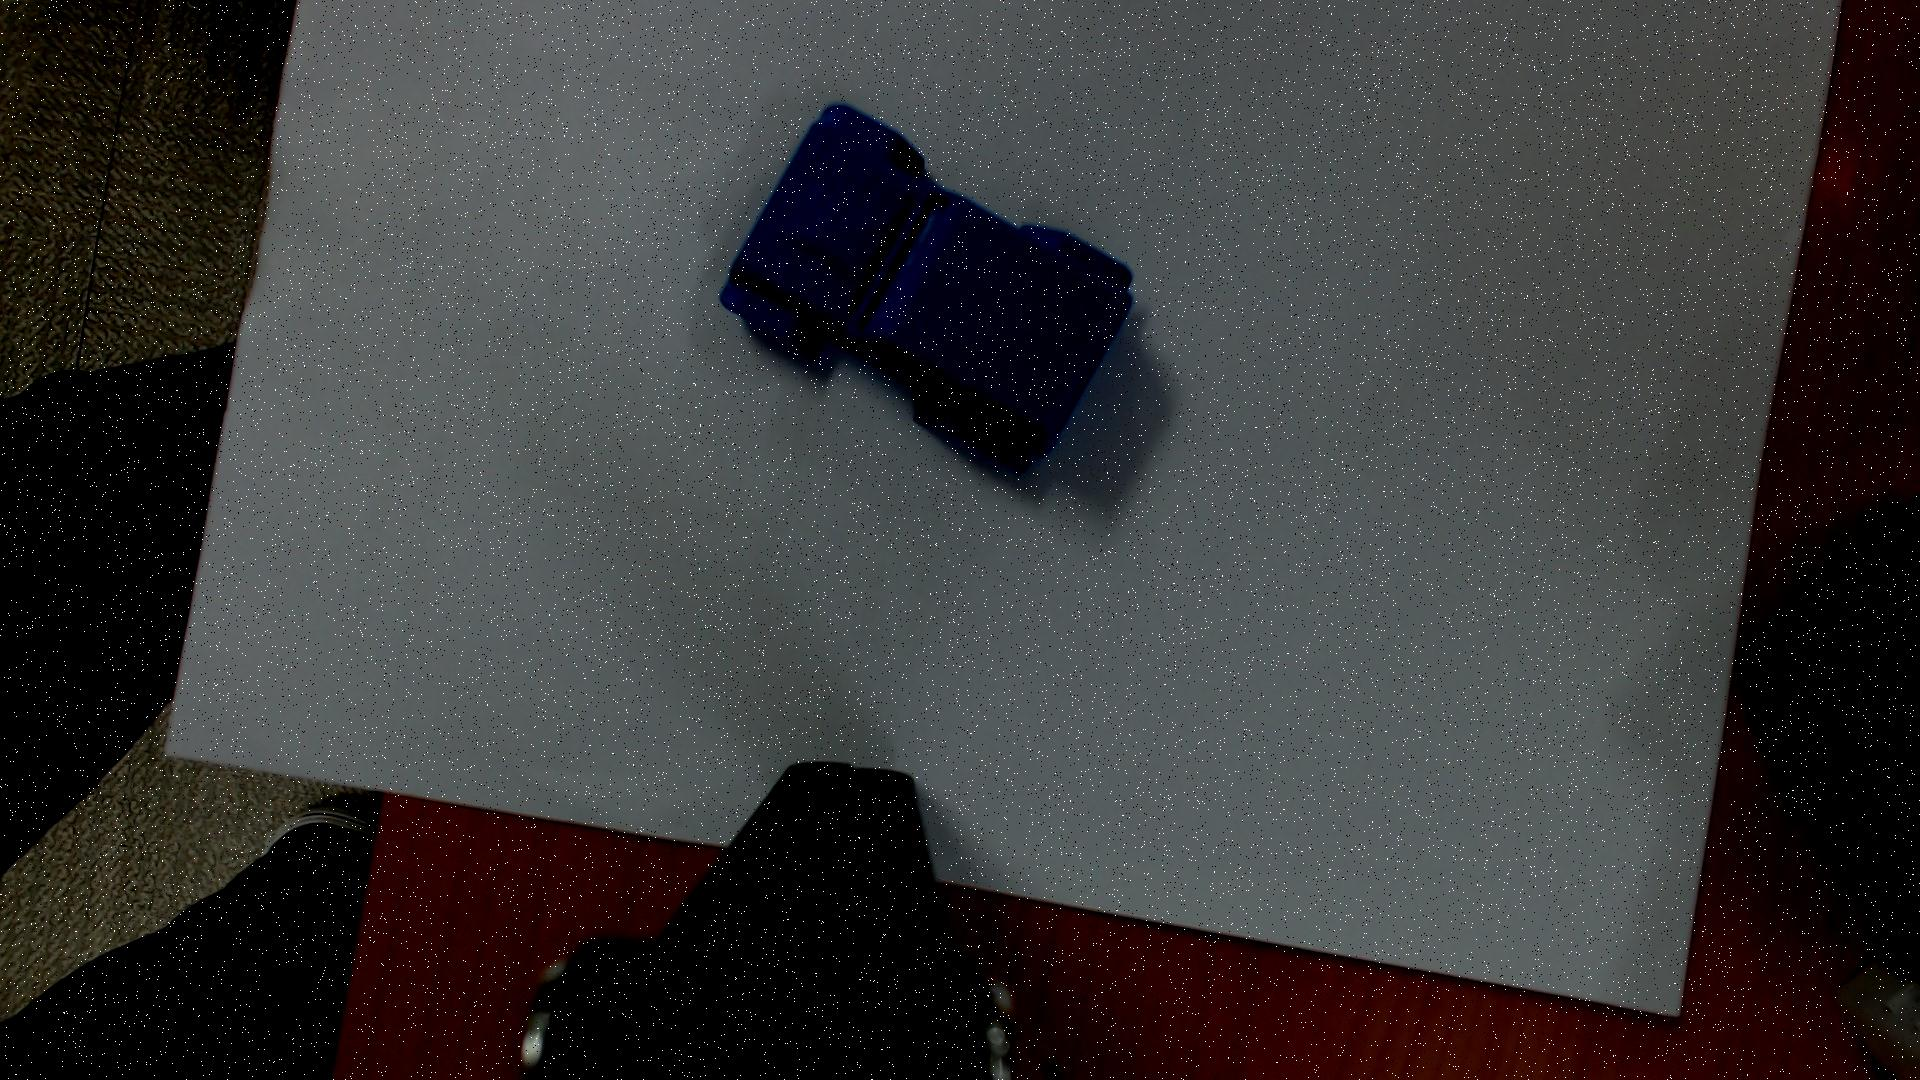Upper_ng: (721, 104, 1130, 472)
